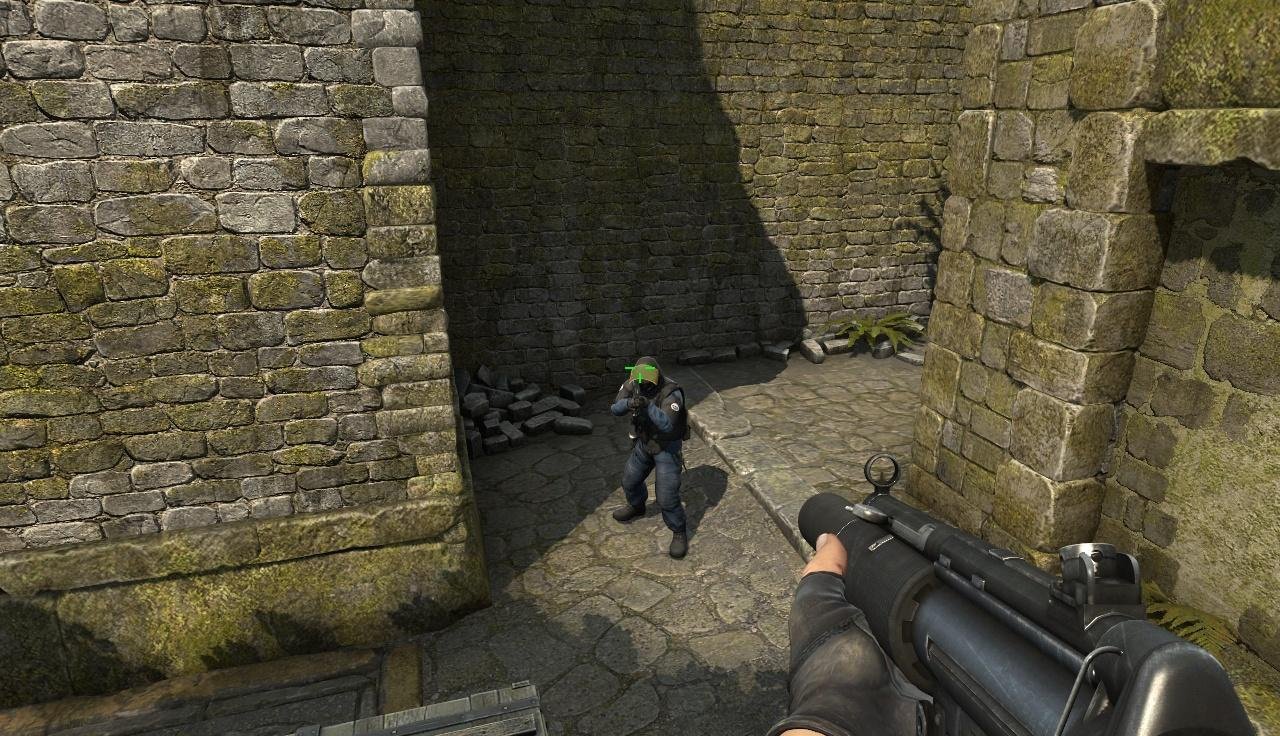ct: (610, 353, 681, 547)
cthead: (631, 358, 662, 390)
rifle: (796, 454, 1273, 736)
